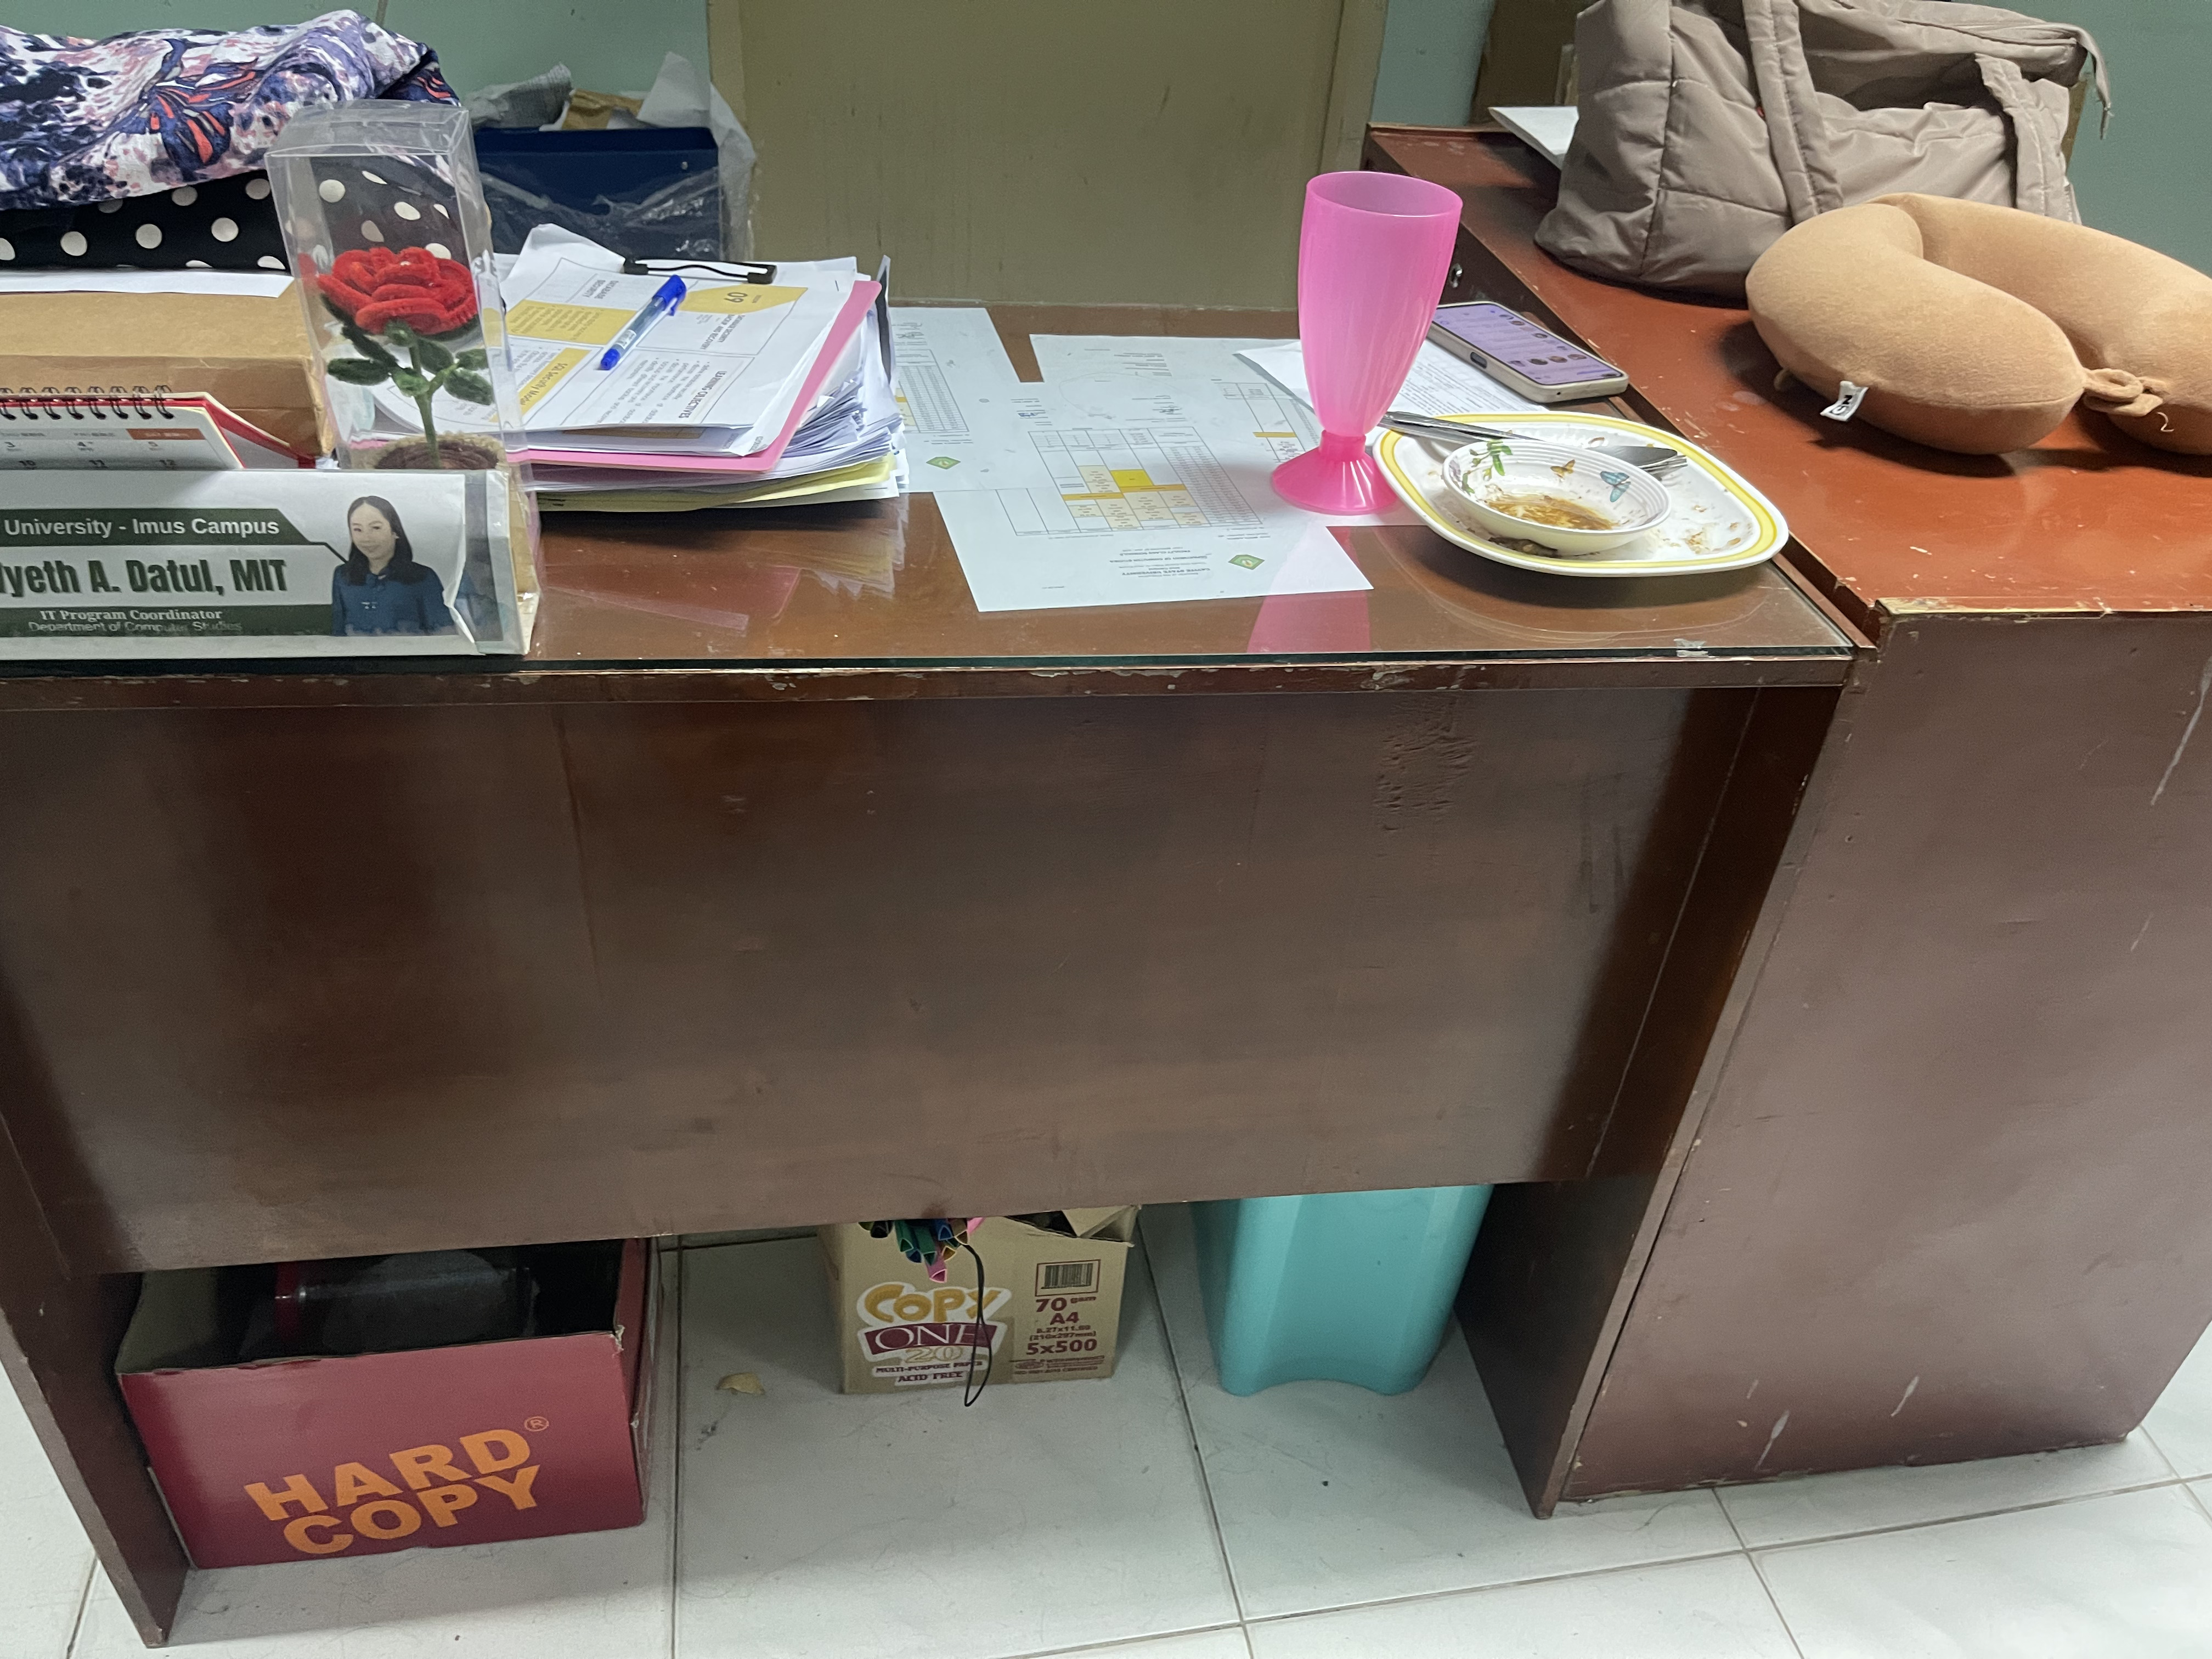table2: (12, 291, 2212, 1649)
